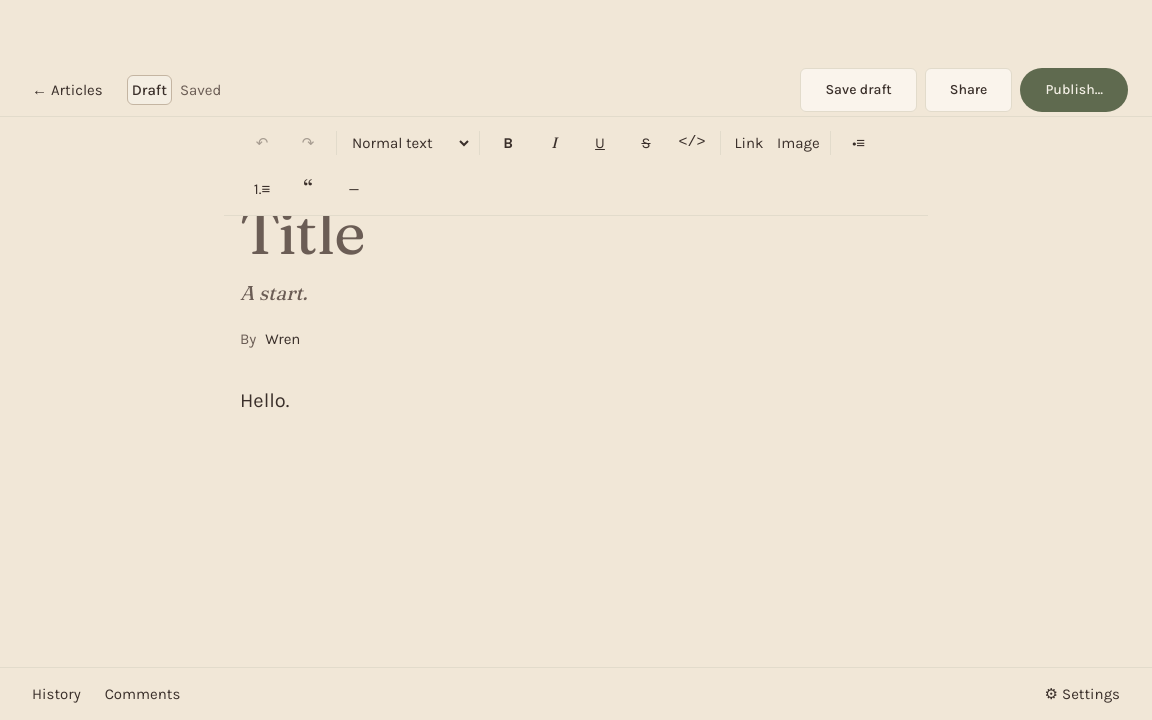
Test case: publishing and scheduling (one dialog, no approval) › says what is missing instead of offering to publish
Click the button "Publish…". click: (1074, 90)
box: [1020,68,1128,112]
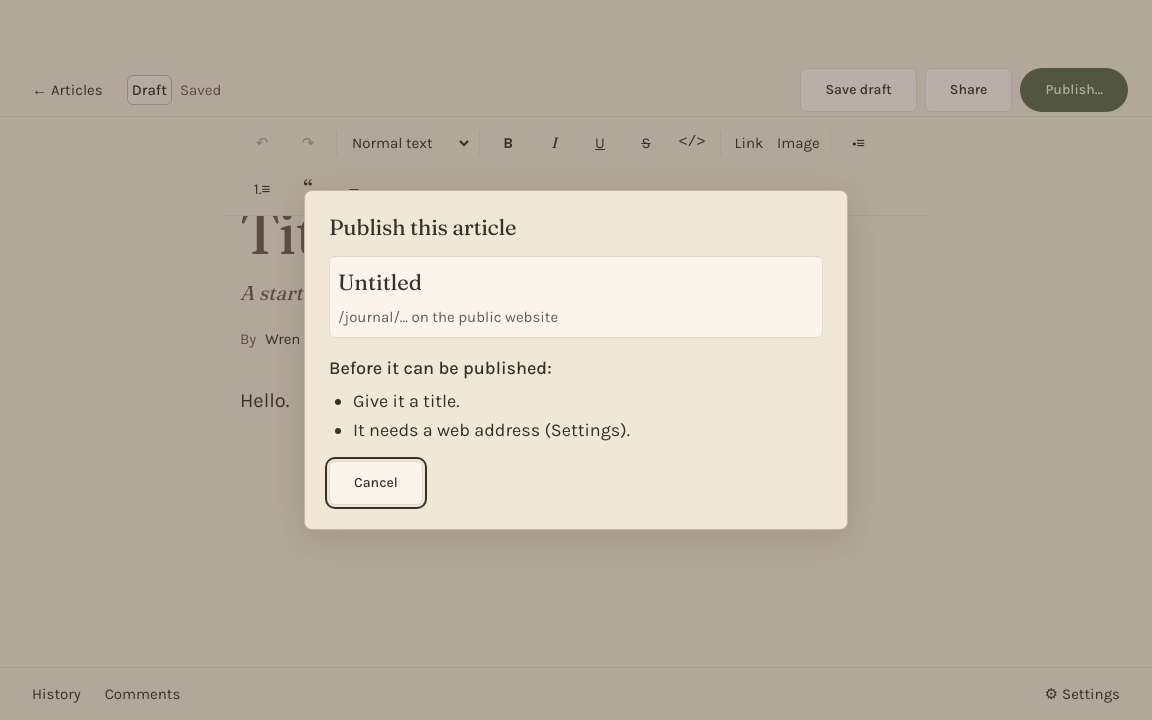
Check: the list item "Give it a title." is shown, box [353,390,460,412]
